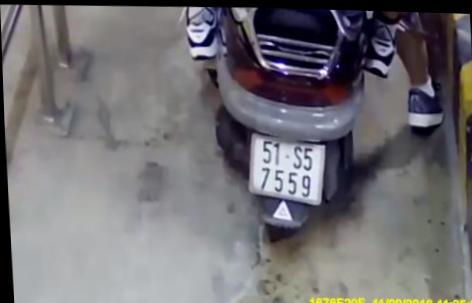LP: (243, 123, 335, 215)
